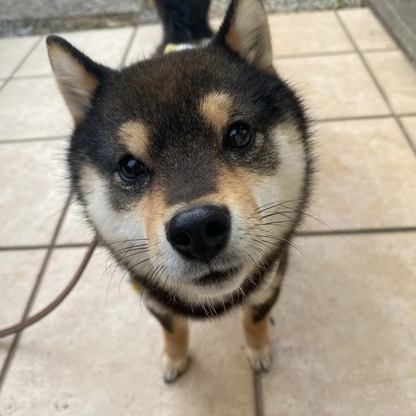shiba: (40, 2, 327, 388)
